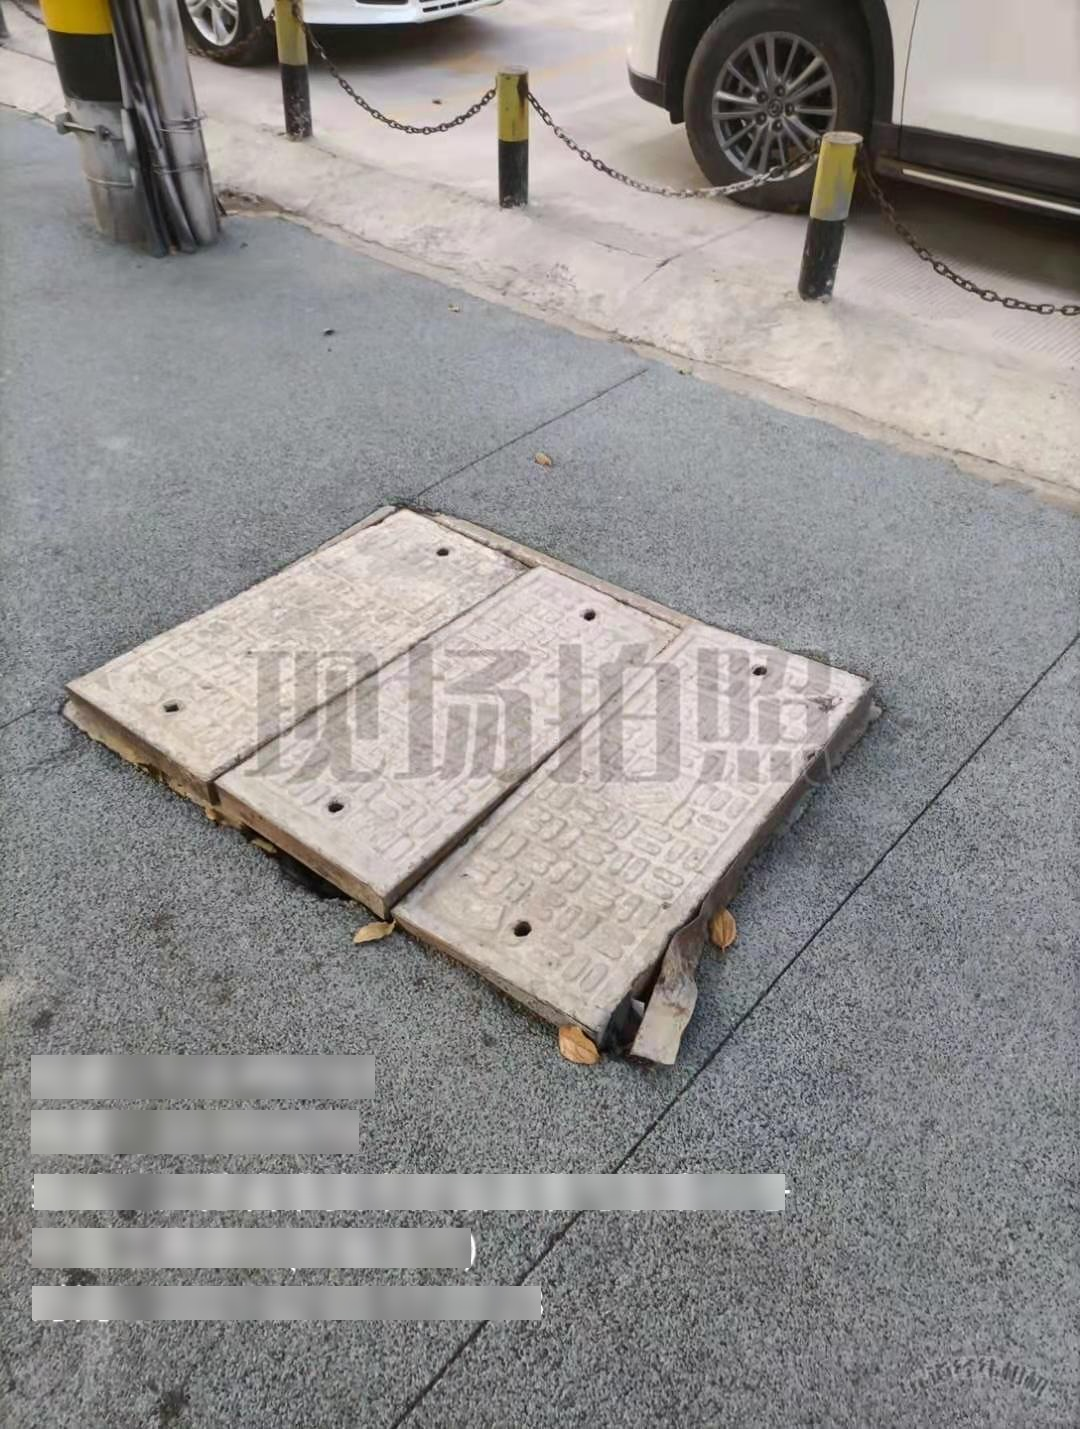uncovered: (65, 497, 872, 1038)
